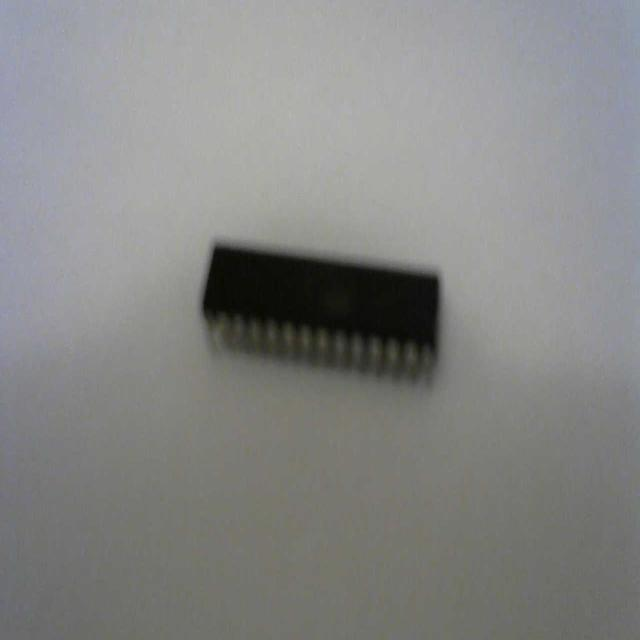atmega: (199, 235, 443, 389)
